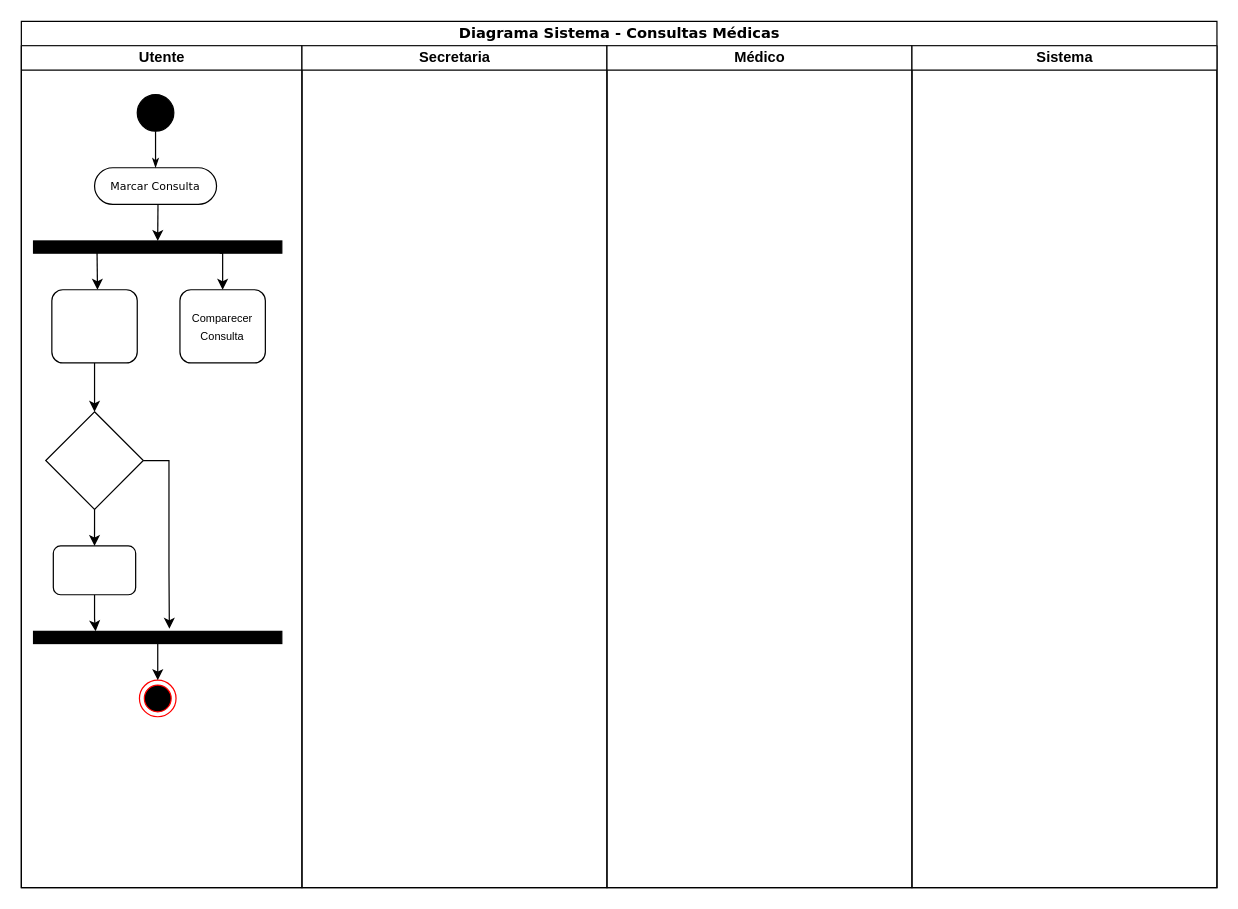
Some shapes in this 1238 by 909 pixel diagram are drawn without their labels. The centre of each missing label's shape, as x and y in pixels:
"Desistência" belongs at (94,460).
"Desmarcar Consulta" belongs at (94,326).
"novo agendamento" belongs at (94,570).
